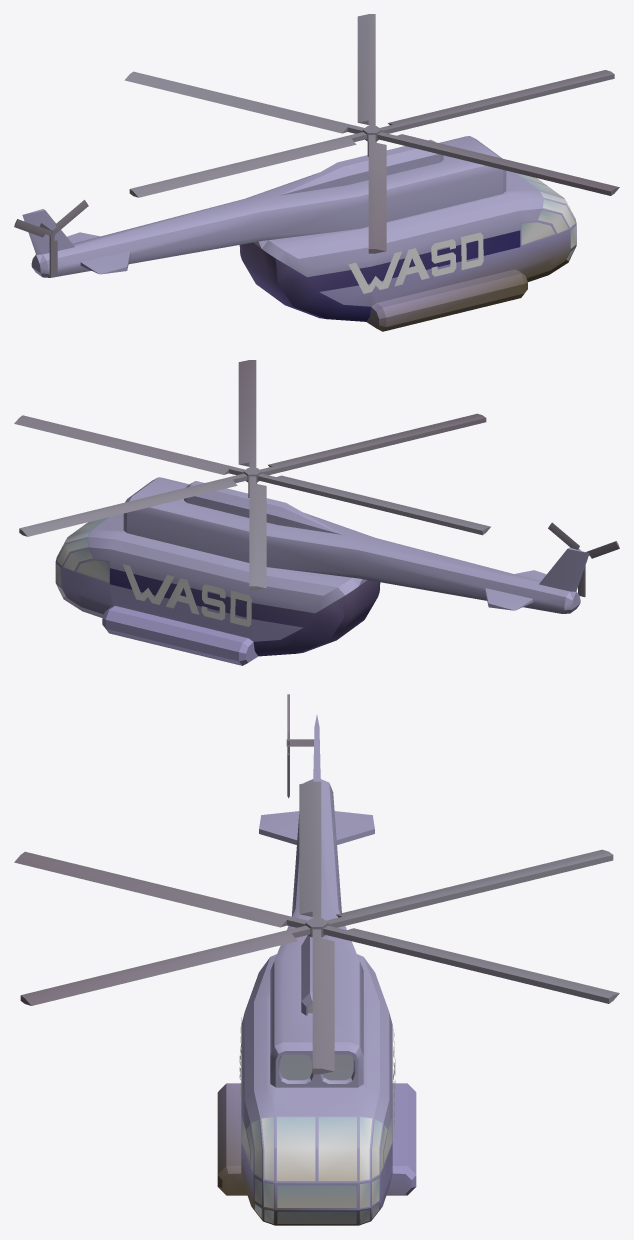
The model's file is Mi8twasdV3.fbx.
3 views of the same model, one above another, from view 1: azimuth 30°, elevation 25°; view 2: azimuth 150°, elevation 25°; view 3: azimuth 270°, elevation 25° (orthographic). The views are drawn at different scales.
Visible parts, largest first — view 1: Mi8.001; view 2: Mi8.001; view 3: Mi8.001.
Boxes of the visible parts, x1=… form: Mi8.001: x1=14, y1=14, x2=619, y2=331; Mi8.001: x1=14, y1=360, x2=619, y2=665; Mi8.001: x1=14, y1=694, x2=619, y2=1225.
Bounding box in the file's own units: 936 × 264 × 658.
